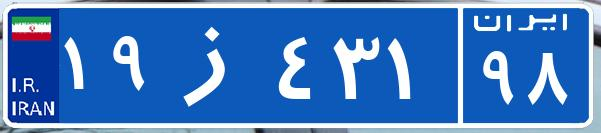1: (385, 28, 445, 110), (57, 26, 110, 107)
3: (330, 28, 385, 110)
4: (273, 28, 330, 110)
8: (525, 38, 570, 115)
9: (475, 38, 525, 113), (110, 28, 158, 105)
ز: (158, 15, 273, 115)
